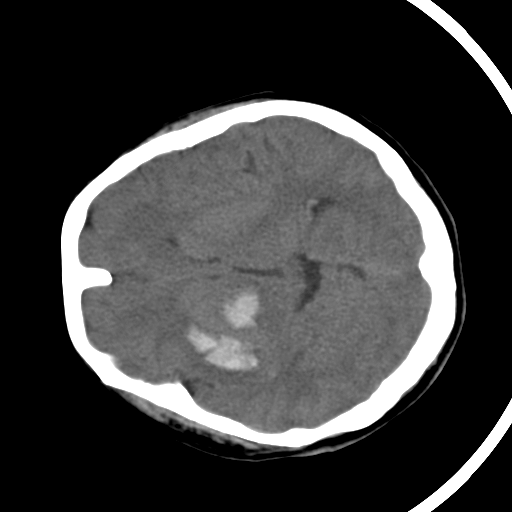a: (164, 270, 281, 392)
